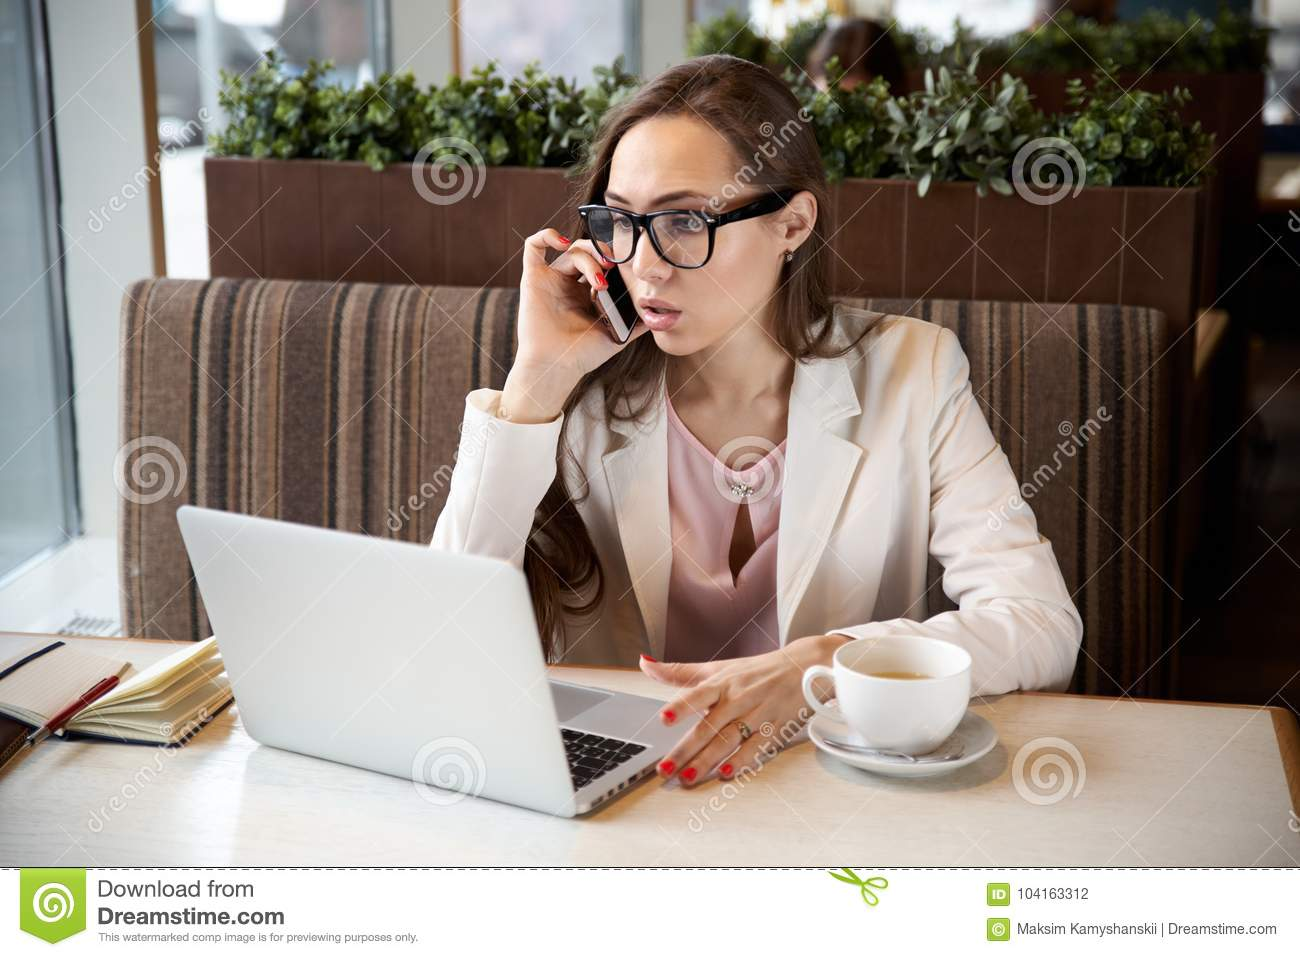phone: (590, 254, 639, 351)
talk: (511, 176, 730, 392)
